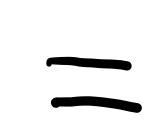eqv: (46, 56, 142, 113)
